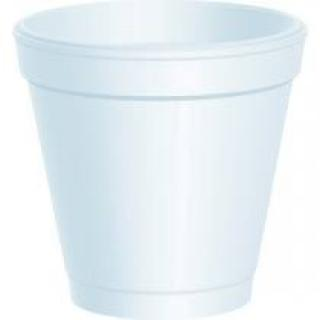PAPER: (12, 0, 303, 314)
